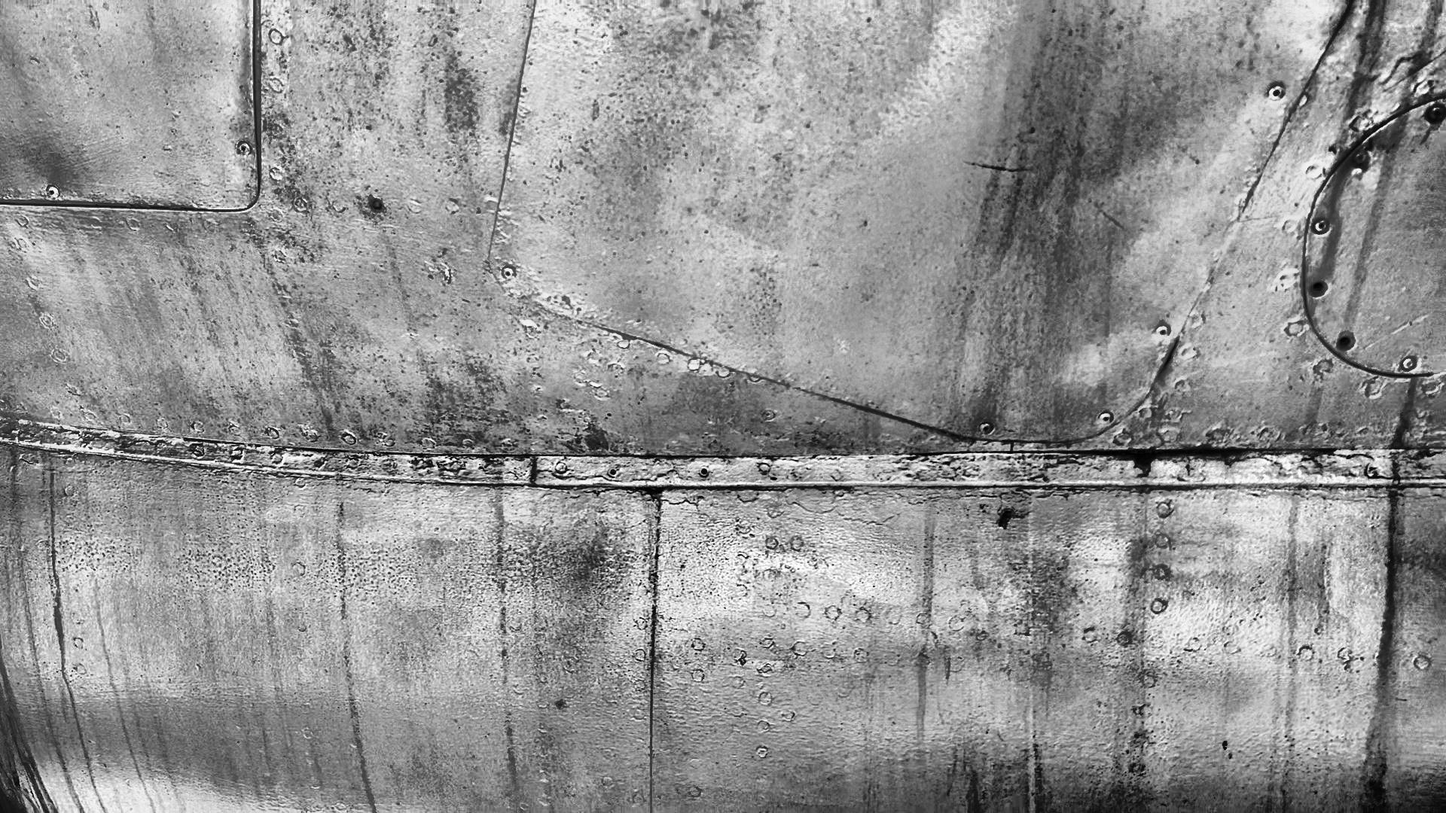missing-head: (1335, 335, 1355, 351), (1309, 281, 1327, 296)
paint-peel-off: (1078, 449, 1249, 468), (634, 486, 666, 495), (998, 509, 1012, 529)
